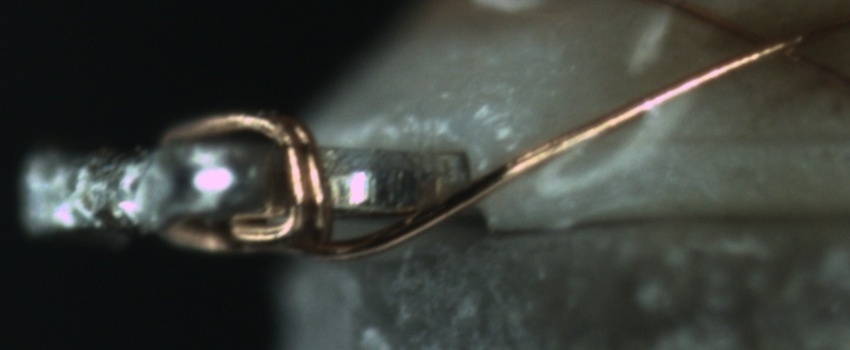CL: (701, 19, 832, 74)
TE: (156, 94, 338, 248)
